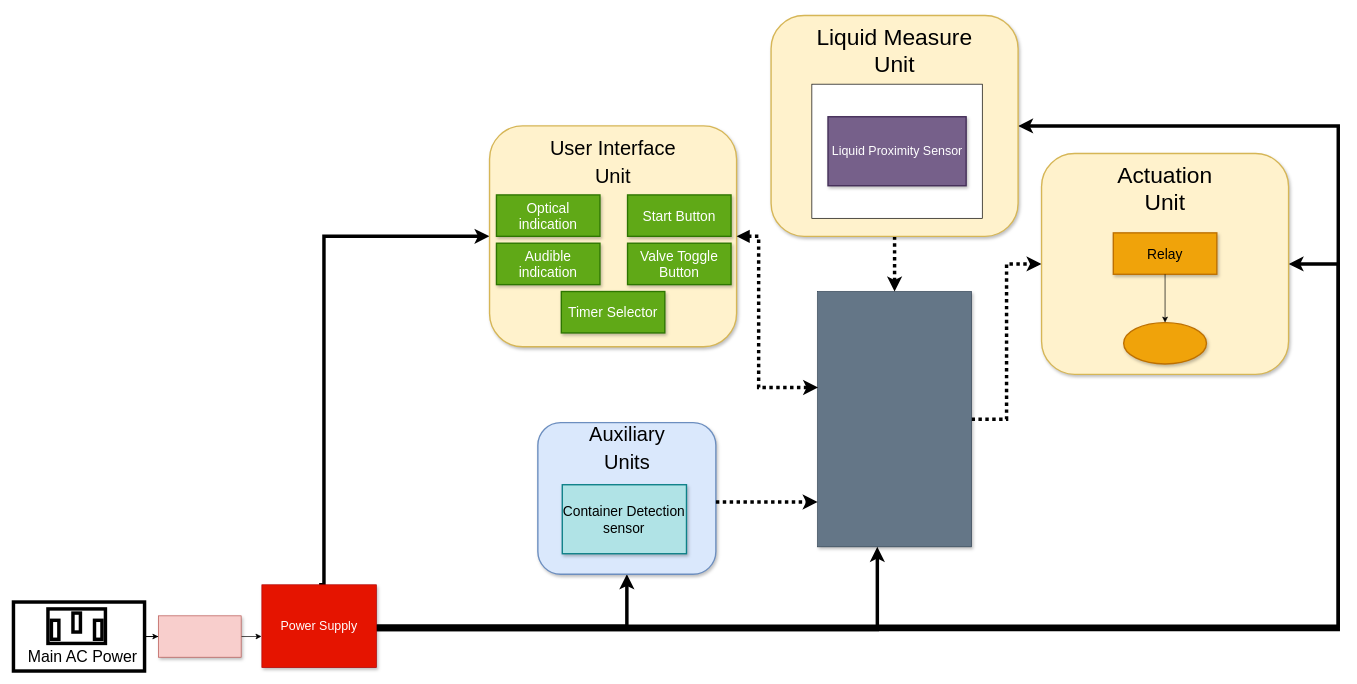
The diagram is 1357 pixels wide and 684 high, and some of its shapes have lost their labels. Each missing label, with the centre of its shape:
"Control Panel" belongs at point 895,420.
"Emergency Button" belongs at point 200,637.
"Valve" belongs at point 1165,344.
